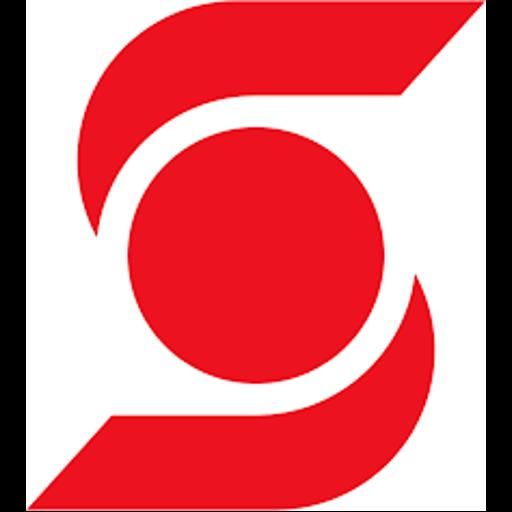Scotiabank: (26, 0, 486, 511)
